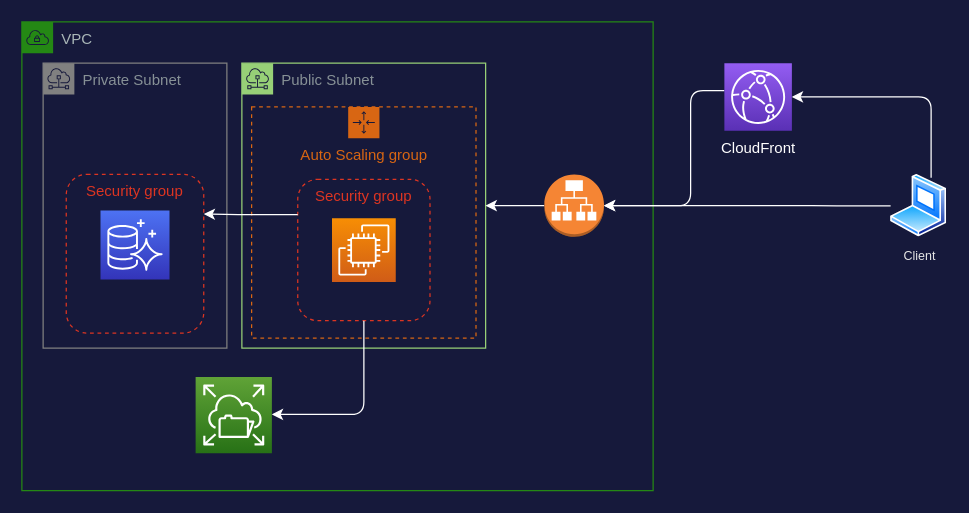
Some shapes in this 969 by 513 pixel diagram are drawn without their labels. Each missing label, with the centre of its shape:
ALB: the point at 573,205
Aurora DB Replica: the point at 134,244
EC2 App: the point at 363,249
EFS: the point at 233,414
